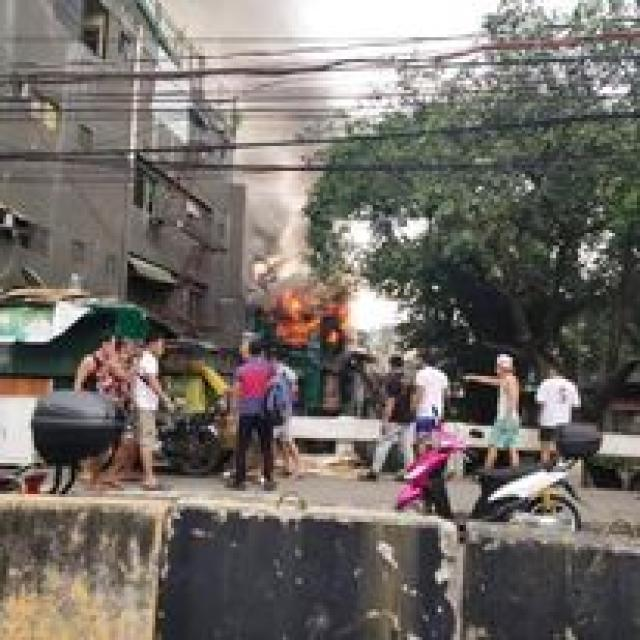Fire: (268, 282, 359, 360)
